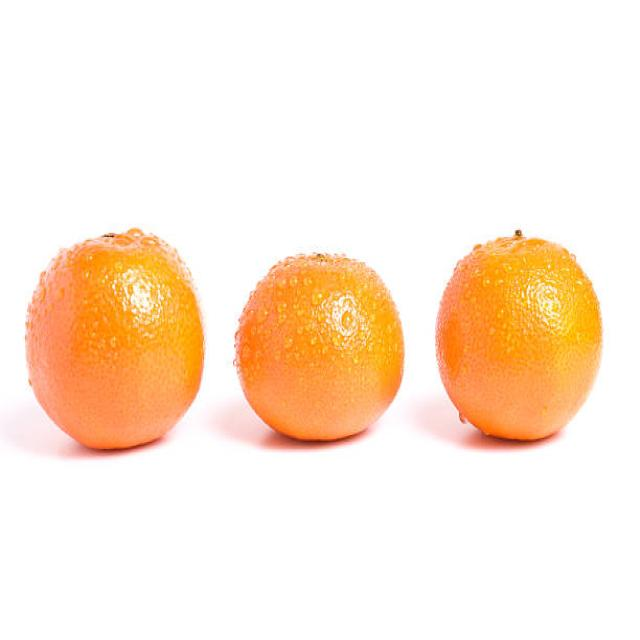Ripe: (21, 225, 208, 458), (438, 227, 605, 442), (237, 247, 408, 448)
